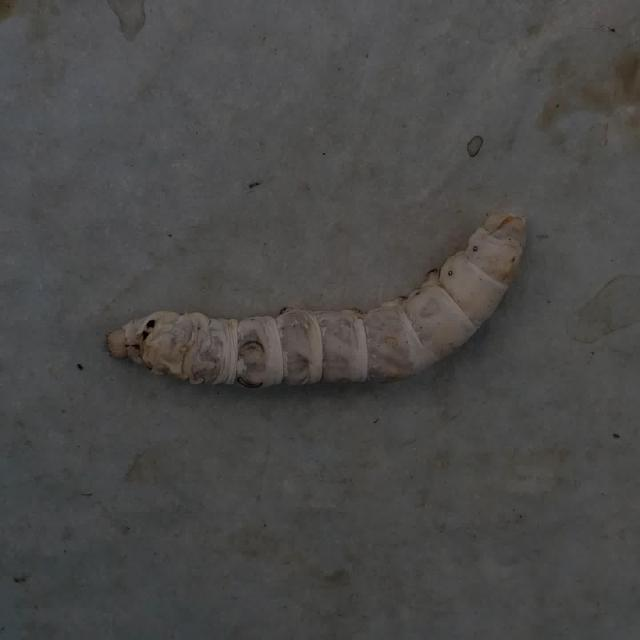Grasserie: (52, 192, 559, 420)
